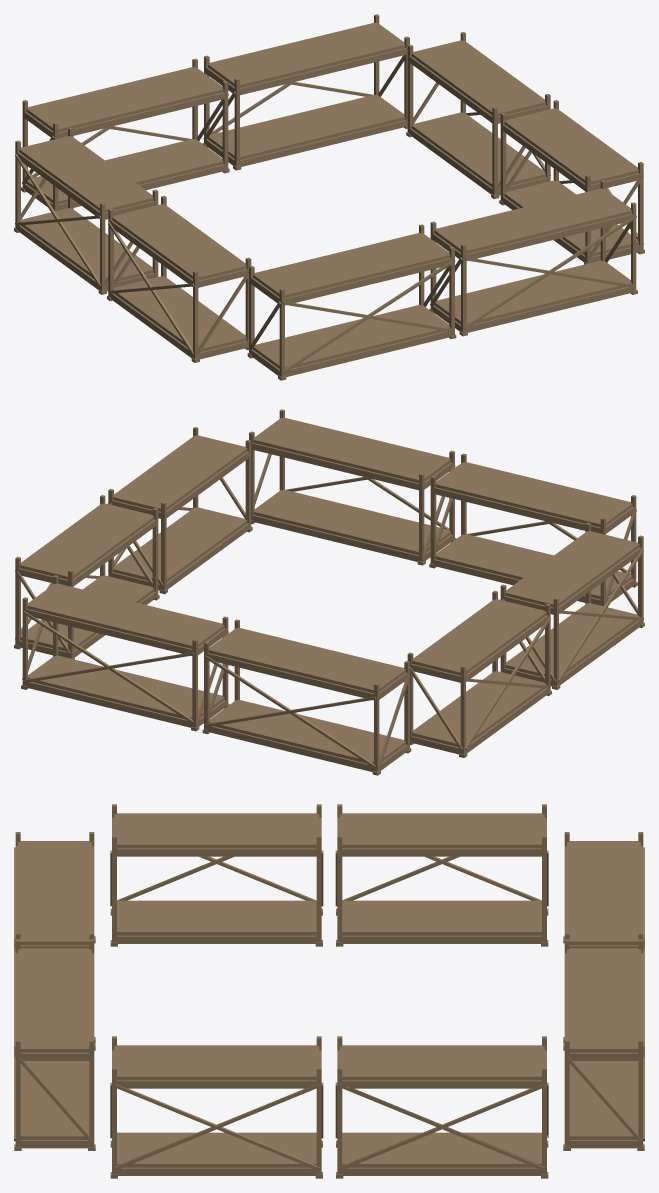
The model's file is summit-stock-racks.glb.
3 views of the same model, one above another, from view 1: azimuth 30°, elevation 25°; view 2: azimuth 150°, elevation 25°; view 3: azimuth 270°, elevation 25° (orthographic). The views are drawn at different scales.
Visible parts, largest first — view 1: summit-stock-rack-2-joined.001, summit-stock-rack-3-joined.001, summit-stock-rack-1-joined.001, summit-stock-rack-5-joined.001, summit-stock-rack-0-joined.001, summit-stock-rack-6-joined.001, summit-stock-rack-4-joined.001, summit-stock-rack-7-joined.001; view 2: summit-stock-rack-0-joined.001, summit-stock-rack-1-joined.001, summit-stock-rack-3-joined.001, summit-stock-rack-2-joined.001, summit-stock-rack-4-joined.001, summit-stock-rack-7-joined.001, summit-stock-rack-5-joined.001, summit-stock-rack-6-joined.001; view 3: summit-stock-rack-6-joined.001, summit-stock-rack-7-joined.001, summit-stock-rack-4-joined.001, summit-stock-rack-5-joined.001, summit-stock-rack-1-joined.001, summit-stock-rack-3-joined.001, summit-stock-rack-0-joined.001, summit-stock-rack-2-joined.001.
Boxes of the visible parts, x1,y1,x2,y2 form: summit-stock-rack-2-joined.001: [247, 224, 456, 380]; summit-stock-rack-3-joined.001: [429, 180, 637, 336]; summit-stock-rack-1-joined.001: [202, 14, 409, 170]; summit-stock-rack-5-joined.001: [107, 195, 251, 362]; summit-stock-rack-0-joined.001: [21, 58, 229, 211]; summit-stock-rack-6-joined.001: [406, 32, 550, 199]; summit-stock-rack-4-joined.001: [14, 127, 158, 294]; summit-stock-rack-7-joined.001: [499, 100, 644, 264]; summit-stock-rack-0-joined.001: [202, 619, 411, 775]; summit-stock-rack-1-joined.001: [21, 575, 229, 731]; summit-stock-rack-3-joined.001: [249, 409, 456, 565]; summit-stock-rack-2-joined.001: [429, 453, 637, 606]; summit-stock-rack-4-joined.001: [407, 590, 551, 757]; summit-stock-rack-7-joined.001: [108, 427, 252, 594]; summit-stock-rack-5-joined.001: [500, 522, 644, 689]; summit-stock-rack-6-joined.001: [14, 495, 159, 659]; summit-stock-rack-6-joined.001: [335, 1036, 548, 1178]; summit-stock-rack-7-joined.001: [110, 1036, 323, 1178]; summit-stock-rack-4-joined.001: [335, 804, 548, 946]; summit-stock-rack-5-joined.001: [110, 804, 323, 946]; summit-stock-rack-1-joined.001: [563, 939, 644, 1150]; summit-stock-rack-3-joined.001: [14, 939, 95, 1150]; summit-stock-rack-0-joined.001: [563, 832, 644, 1043]; summit-stock-rack-2-joined.001: [14, 832, 95, 1043].
Size of the model in its own units: 15.4 by 2.93 by 15.4.
